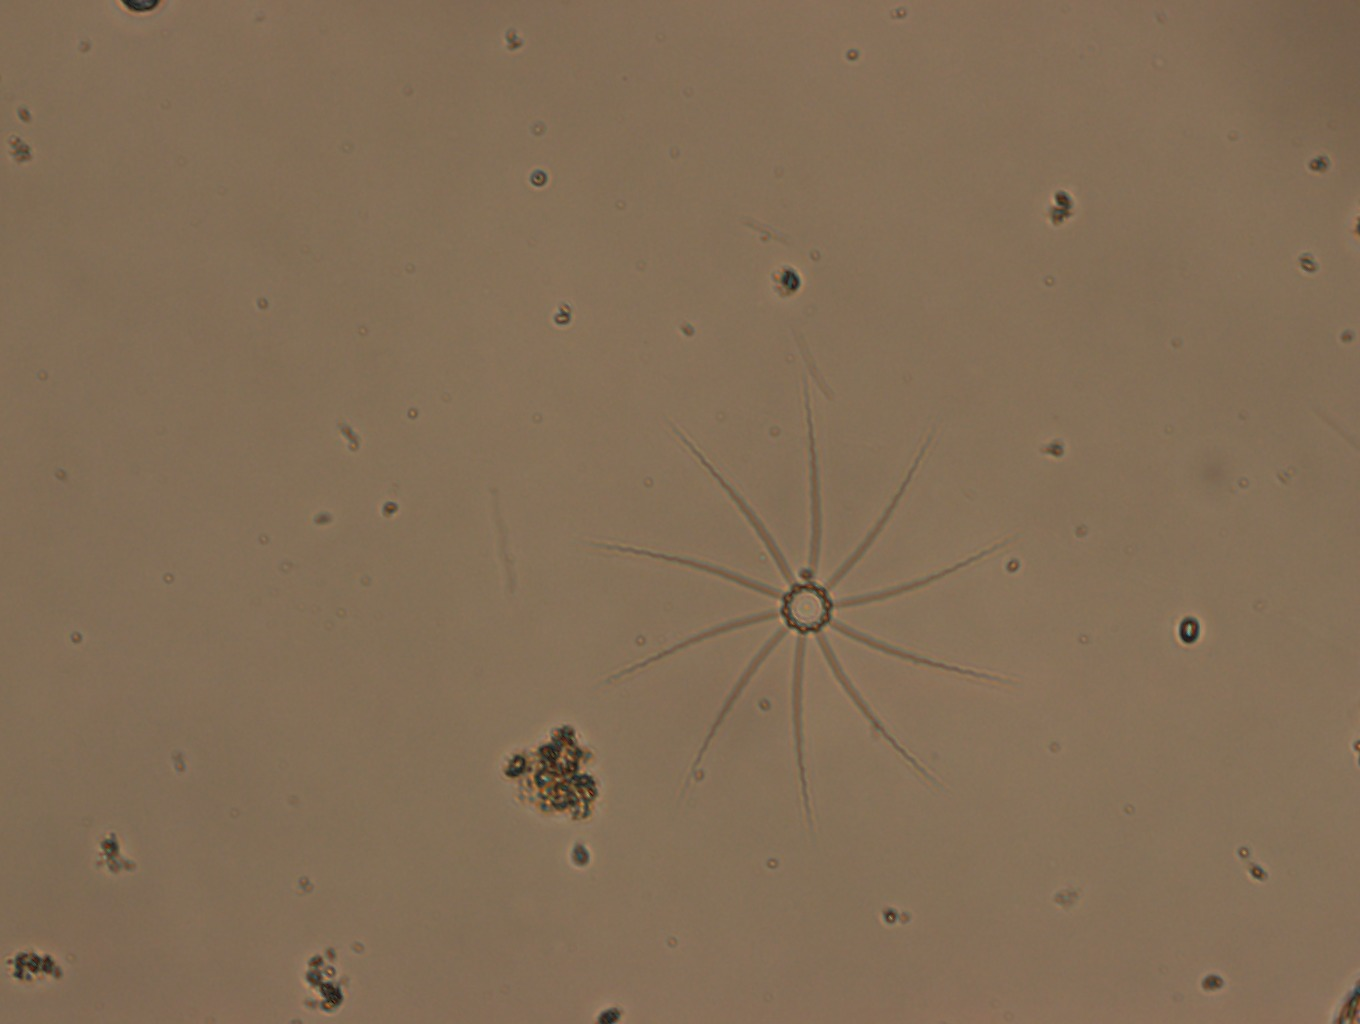bacteriastrum: (596, 367, 1034, 828)
